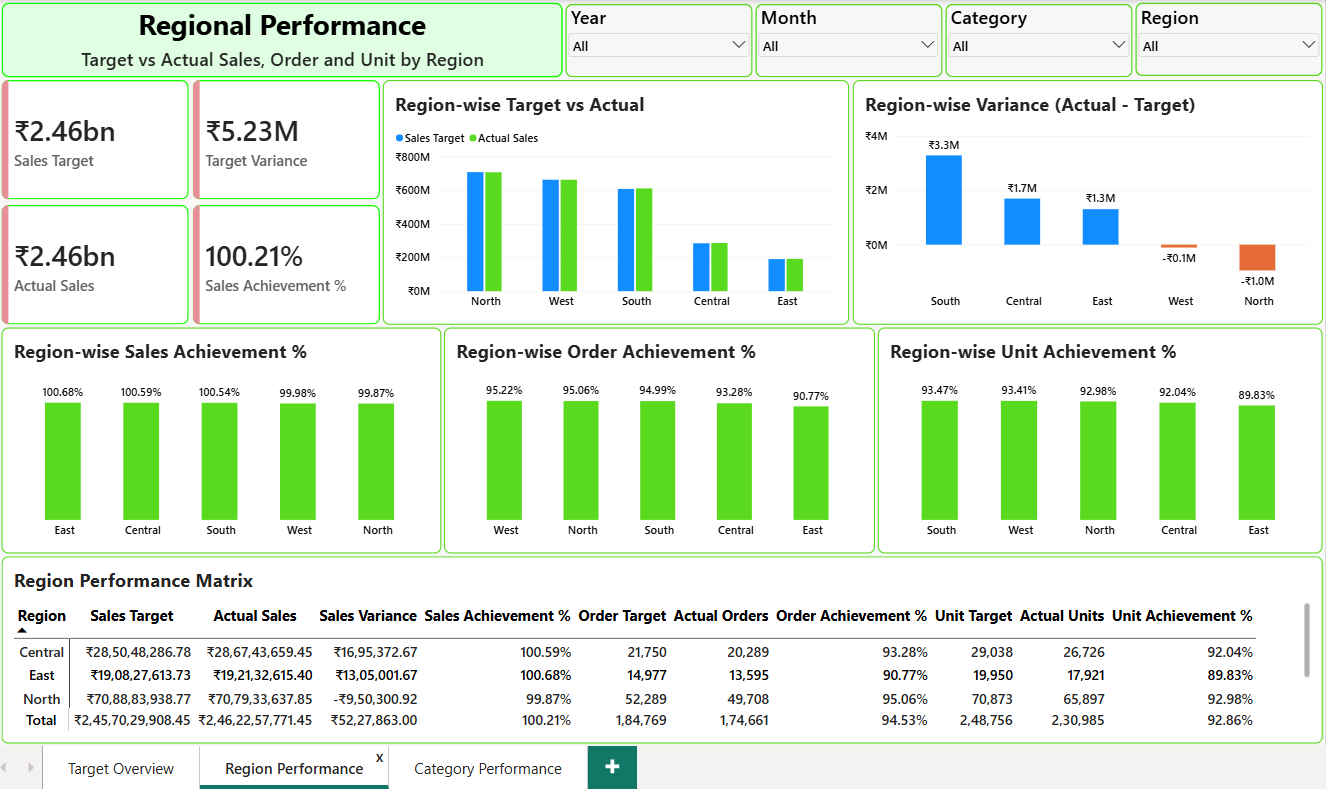

What the dashboard file says about the page in this screenshot:
{"tool":"powerbi","page":{"name":"Region Performance","canvas":[1920,1080],"ordinal":1},"visuals":[{"type":"shape","box":[1645,3.6,271.4,106.8],"z":0},{"type":"shape","box":[1369.9,5.4,271.4,106.8],"z":1000},{"type":"shape","box":[1094.8,5.4,271.4,106.8],"z":2000},{"type":"shape","box":[3.6,3.6,812.5,108.6],"z":3000},{"type":"textbox","box":[110.4,67,600.8,45.2],"z":4000},{"type":"cardVisual","fields":{"Data":["Measure.Sales Target"]},"box":[3.6,115.8,271.4,173.7],"z":5000},{"type":"shape","box":[819.8,5.4,271.4,106.8],"z":6000},{"type":"slicer","fields":{"Values":["DimDate.Year"]},"box":[819.8,5.4,271.4,106.8],"z":10000},{"type":"clusteredColumnChart","title":"Region-wise Target vs Actual","fields":{"Category":["DimRegion.region"],"Y":["Measure.Sales Target","Measure.Actual Sales"]},"box":[555.6,115.8,675,354.7],"z":11000},{"type":"columnChart","title":"Region-wise Sales Achievement %","fields":{"Y":["Measure.Sales Achievement %"],"Category":["DimRegion.region"]},"box":[3.6,474.1,637,327.5],"z":12000},{"type":"columnChart","title":"Region-wise Variance (Actual - Target)","fields":{"Category":["DimRegion.region"],"Y":["Measure.Sales Variance"]},"box":[1236,115.8,680.4,354.7],"z":13000},{"type":"columnChart","title":"Region-wise Order Achievement %","fields":{"Category":["DimRegion.region"],"Y":["Measure.Order Achievement %"]},"box":[644.2,474.1,624.3,327.5],"z":14000},{"type":"columnChart","title":"Region-wise Unit Achievement %","fields":{"Category":["DimRegion.region"],"Y":["Measure.Unit Achievement %"]},"box":[1272.2,474.1,644.2,327.5],"z":15000},{"type":"pivotTable","title":"Region Performance Matrix","fields":{"Rows":["DimRegion.region"],"Values":["Measure.Sales Target","Measure.Actual Sales","Measure.Sales Variance","Measure.Sales Achievement %","Measure.Order Target","Measure.Actual Orders","Measure.Order Achievement %","Measure.Unit Target","Measure.Actual Units","Measure.Unit Achievement %"]},"box":[3.6,805.3,1912.8,271.4],"z":16000},{"type":"cardVisual","fields":{"Data":["Measure.Actual Sales"]},"box":[3.6,296.8,271.4,173.7],"z":17000},{"type":"cardVisual","fields":{"Data":["Measure.Sales Achievement %"]},"box":[280.5,296.8,271.4,173.7],"z":18000},{"type":"cardVisual","fields":{"Data":["Measure.Sales Variance"]},"box":[280.5,115.8,271.4,173.7],"z":19000},{"type":"slicer","fields":{"Values":["DimDate.Month Name"]},"box":[1094.8,5.4,269.6,106.8],"z":19500},{"type":"slicer","fields":{"Values":["categories.category_name"]},"box":[1369.9,5.4,271.4,106.8],"z":20000},{"type":"slicer","fields":{"Values":["DimRegion.region"]},"box":[1645,5.4,271.4,106.8],"z":20500}]}

Visuals, with their boxes on the page's 1920x1080 design canvas (x1, y1, x2, y2). These are canvas units, not pixel positions in the 1326x789 screenshot, which may show the page scaled, cropped or inside an application window:
shape: pyautogui.locateOnScreen(1645, 4, 1916, 110)
shape: pyautogui.locateOnScreen(1370, 5, 1641, 112)
shape: pyautogui.locateOnScreen(1095, 5, 1366, 112)
shape: pyautogui.locateOnScreen(4, 4, 816, 112)
textbox: pyautogui.locateOnScreen(110, 67, 711, 112)
cardVisual - Measure.Sales Target: pyautogui.locateOnScreen(4, 116, 275, 290)
shape: pyautogui.locateOnScreen(820, 5, 1091, 112)
slicer - DimDate.Year: pyautogui.locateOnScreen(820, 5, 1091, 112)
"Region-wise Target vs Actual" clusteredColumnChart: pyautogui.locateOnScreen(556, 116, 1231, 470)
"Region-wise Sales Achievement %" columnChart: pyautogui.locateOnScreen(4, 474, 641, 802)
"Region-wise Variance (Actual - Target)" columnChart: pyautogui.locateOnScreen(1236, 116, 1916, 470)
"Region-wise Order Achievement %" columnChart: pyautogui.locateOnScreen(644, 474, 1268, 802)
"Region-wise Unit Achievement %" columnChart: pyautogui.locateOnScreen(1272, 474, 1916, 802)
"Region Performance Matrix" pivotTable: pyautogui.locateOnScreen(4, 805, 1916, 1077)
cardVisual - Measure.Actual Sales: pyautogui.locateOnScreen(4, 297, 275, 470)
cardVisual - Measure.Sales Achievement %: pyautogui.locateOnScreen(280, 297, 552, 470)
cardVisual - Measure.Sales Variance: pyautogui.locateOnScreen(280, 116, 552, 290)
slicer - DimDate.Month Name: pyautogui.locateOnScreen(1095, 5, 1364, 112)
slicer - categories.category_name: pyautogui.locateOnScreen(1370, 5, 1641, 112)
slicer - DimRegion.region: pyautogui.locateOnScreen(1645, 5, 1916, 112)
